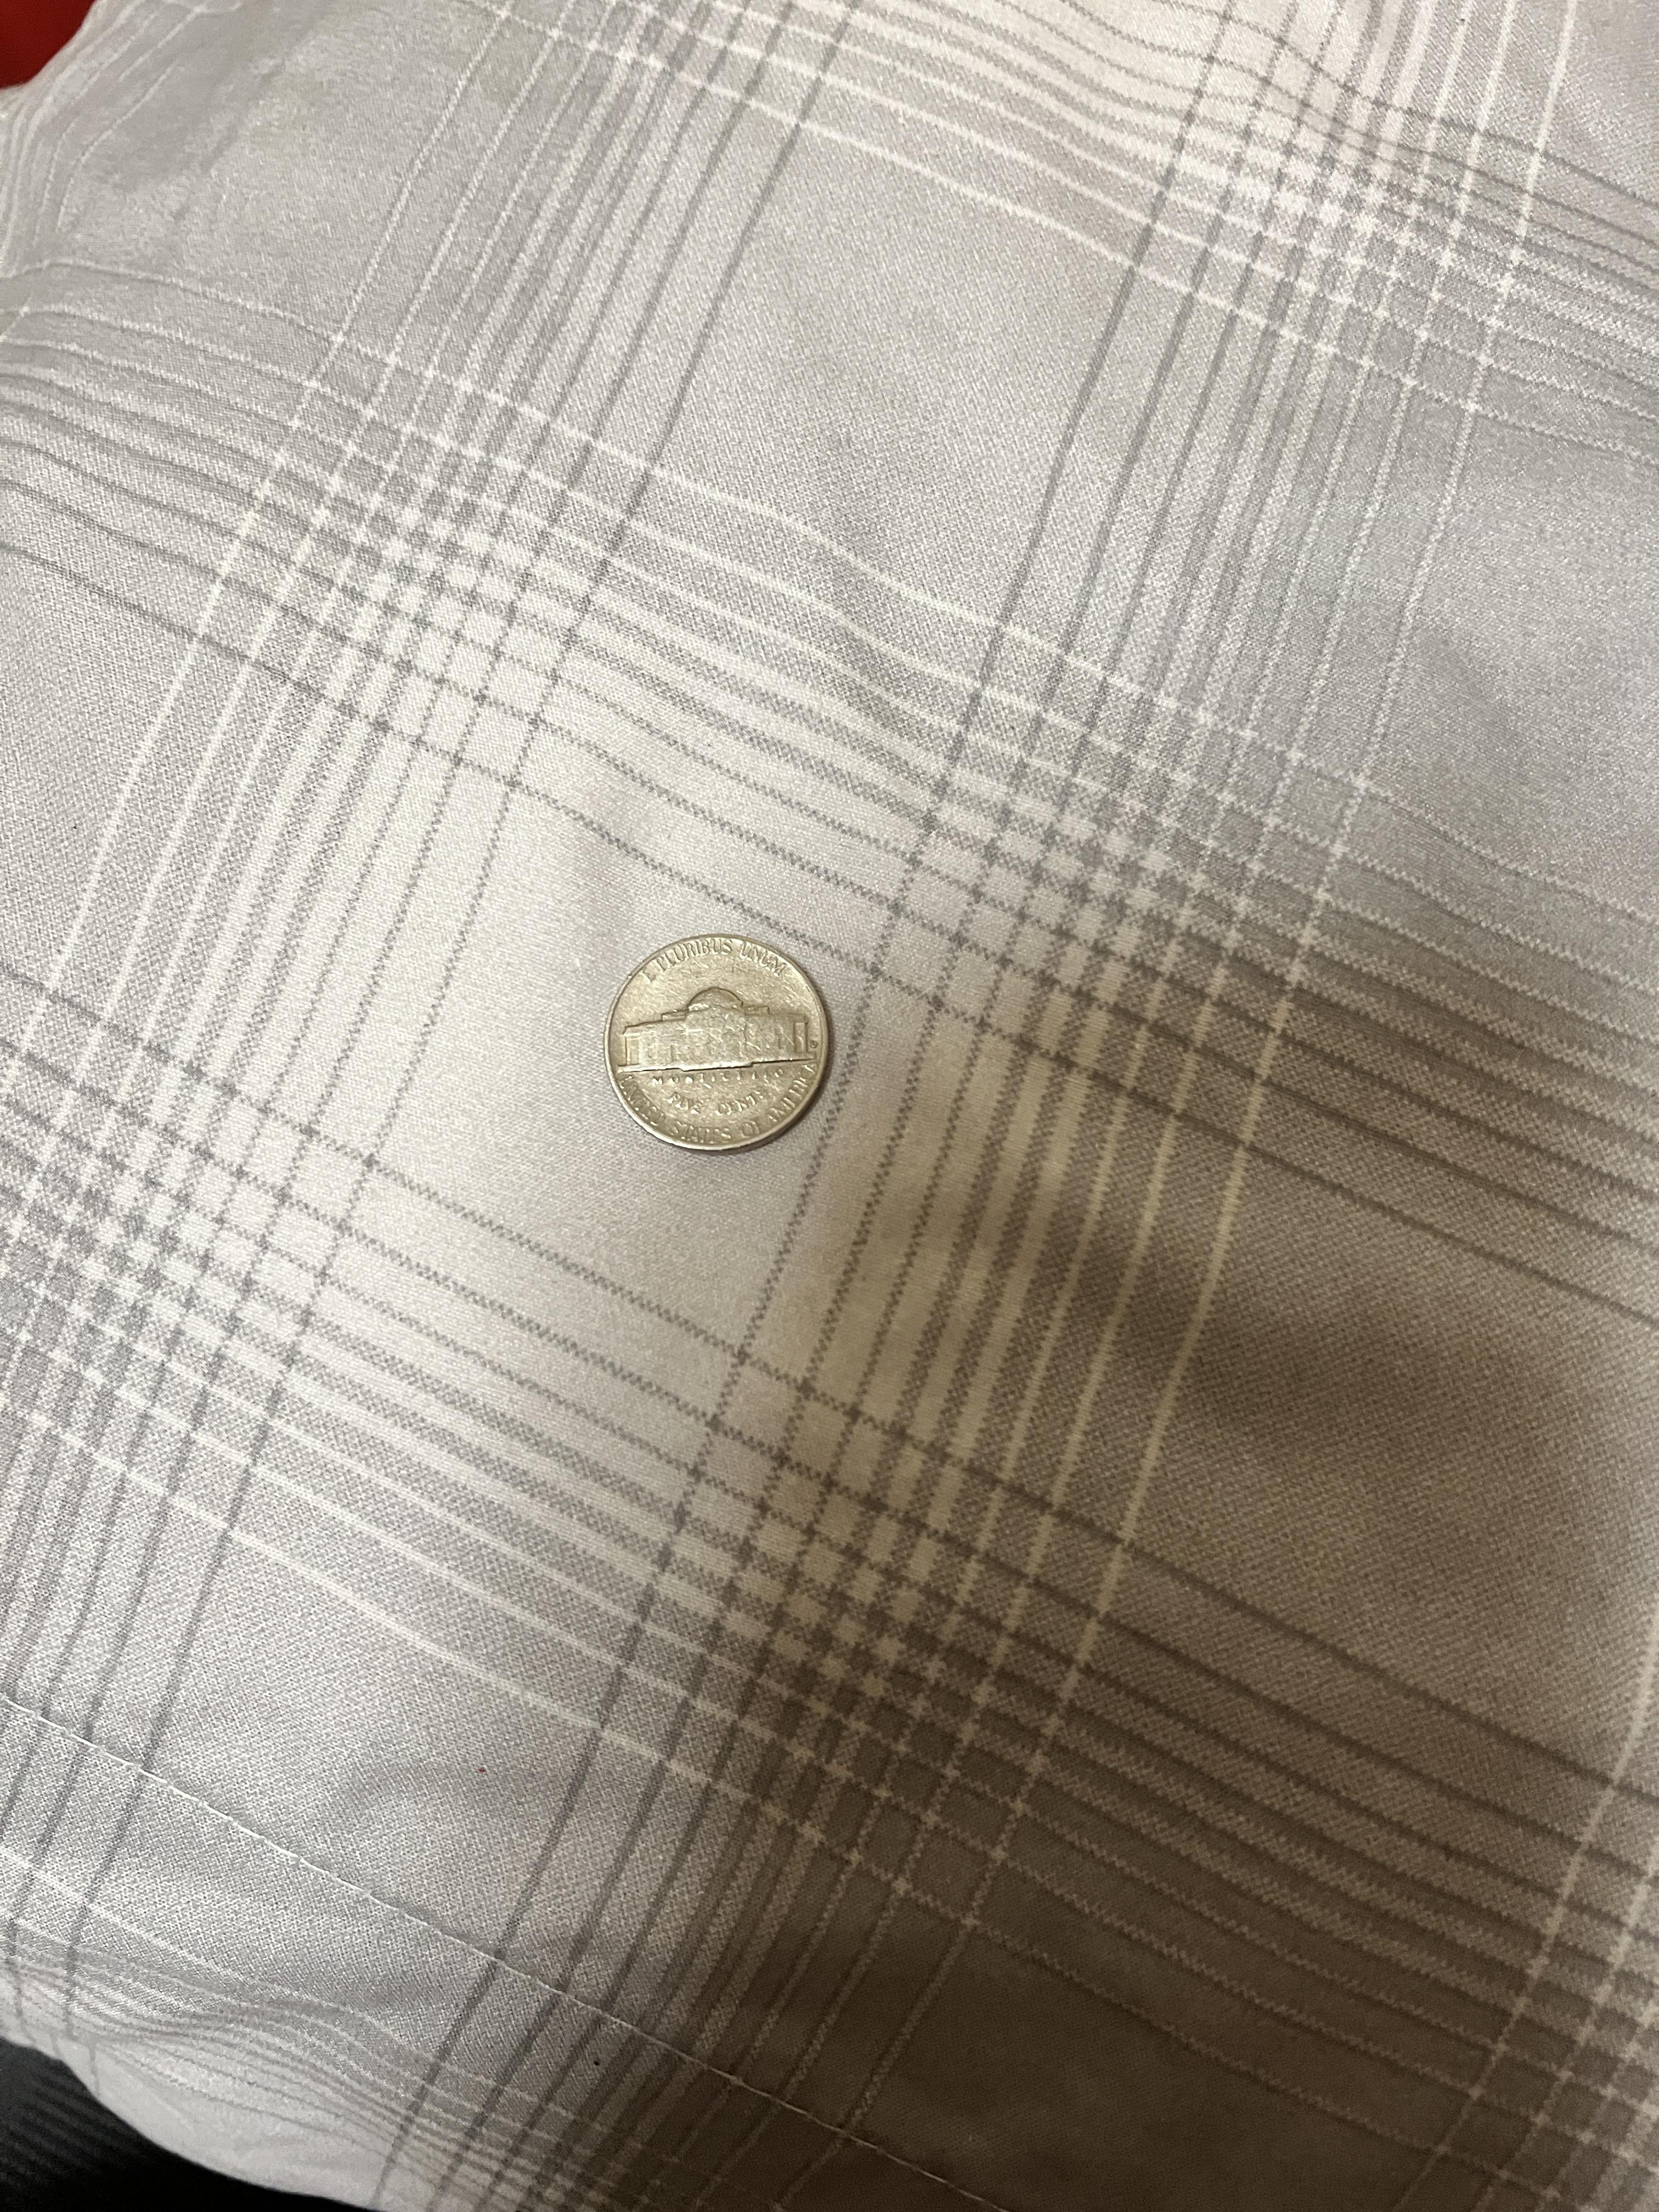Nickel: (594, 927, 830, 1155)
